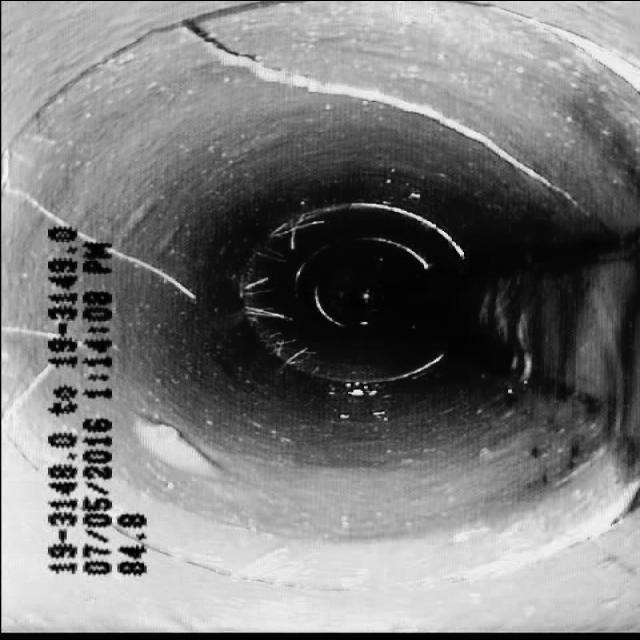Fracture: (180, 28, 568, 168)
